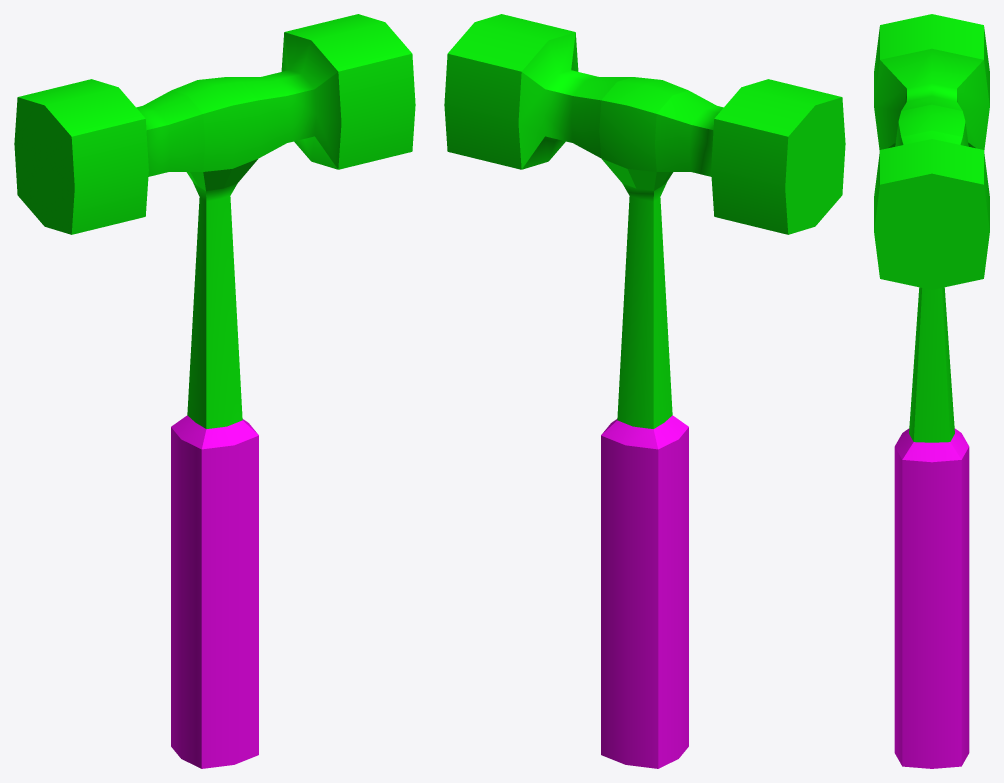
File: texturehammer.obj
3 renders of one model, left to right at view 1: azimuth 30°, elevation 25°; view 2: azimuth 150°, elevation 25°; view 3: azimuth 270°, elevation 25°, orthographic. The views are drawn at different scales.
Parts seen in each view (by area): view 1: Hammermesh; view 2: Hammermesh; view 3: Hammermesh.
Boxes of the visible parts, <box> form: Hammermesh: <box>14,14,415,768</box>; Hammermesh: <box>444,14,845,768</box>; Hammermesh: <box>874,14,989,768</box>.
Size of the model in its own units: 14.98 by 28.85 by 4.6.
